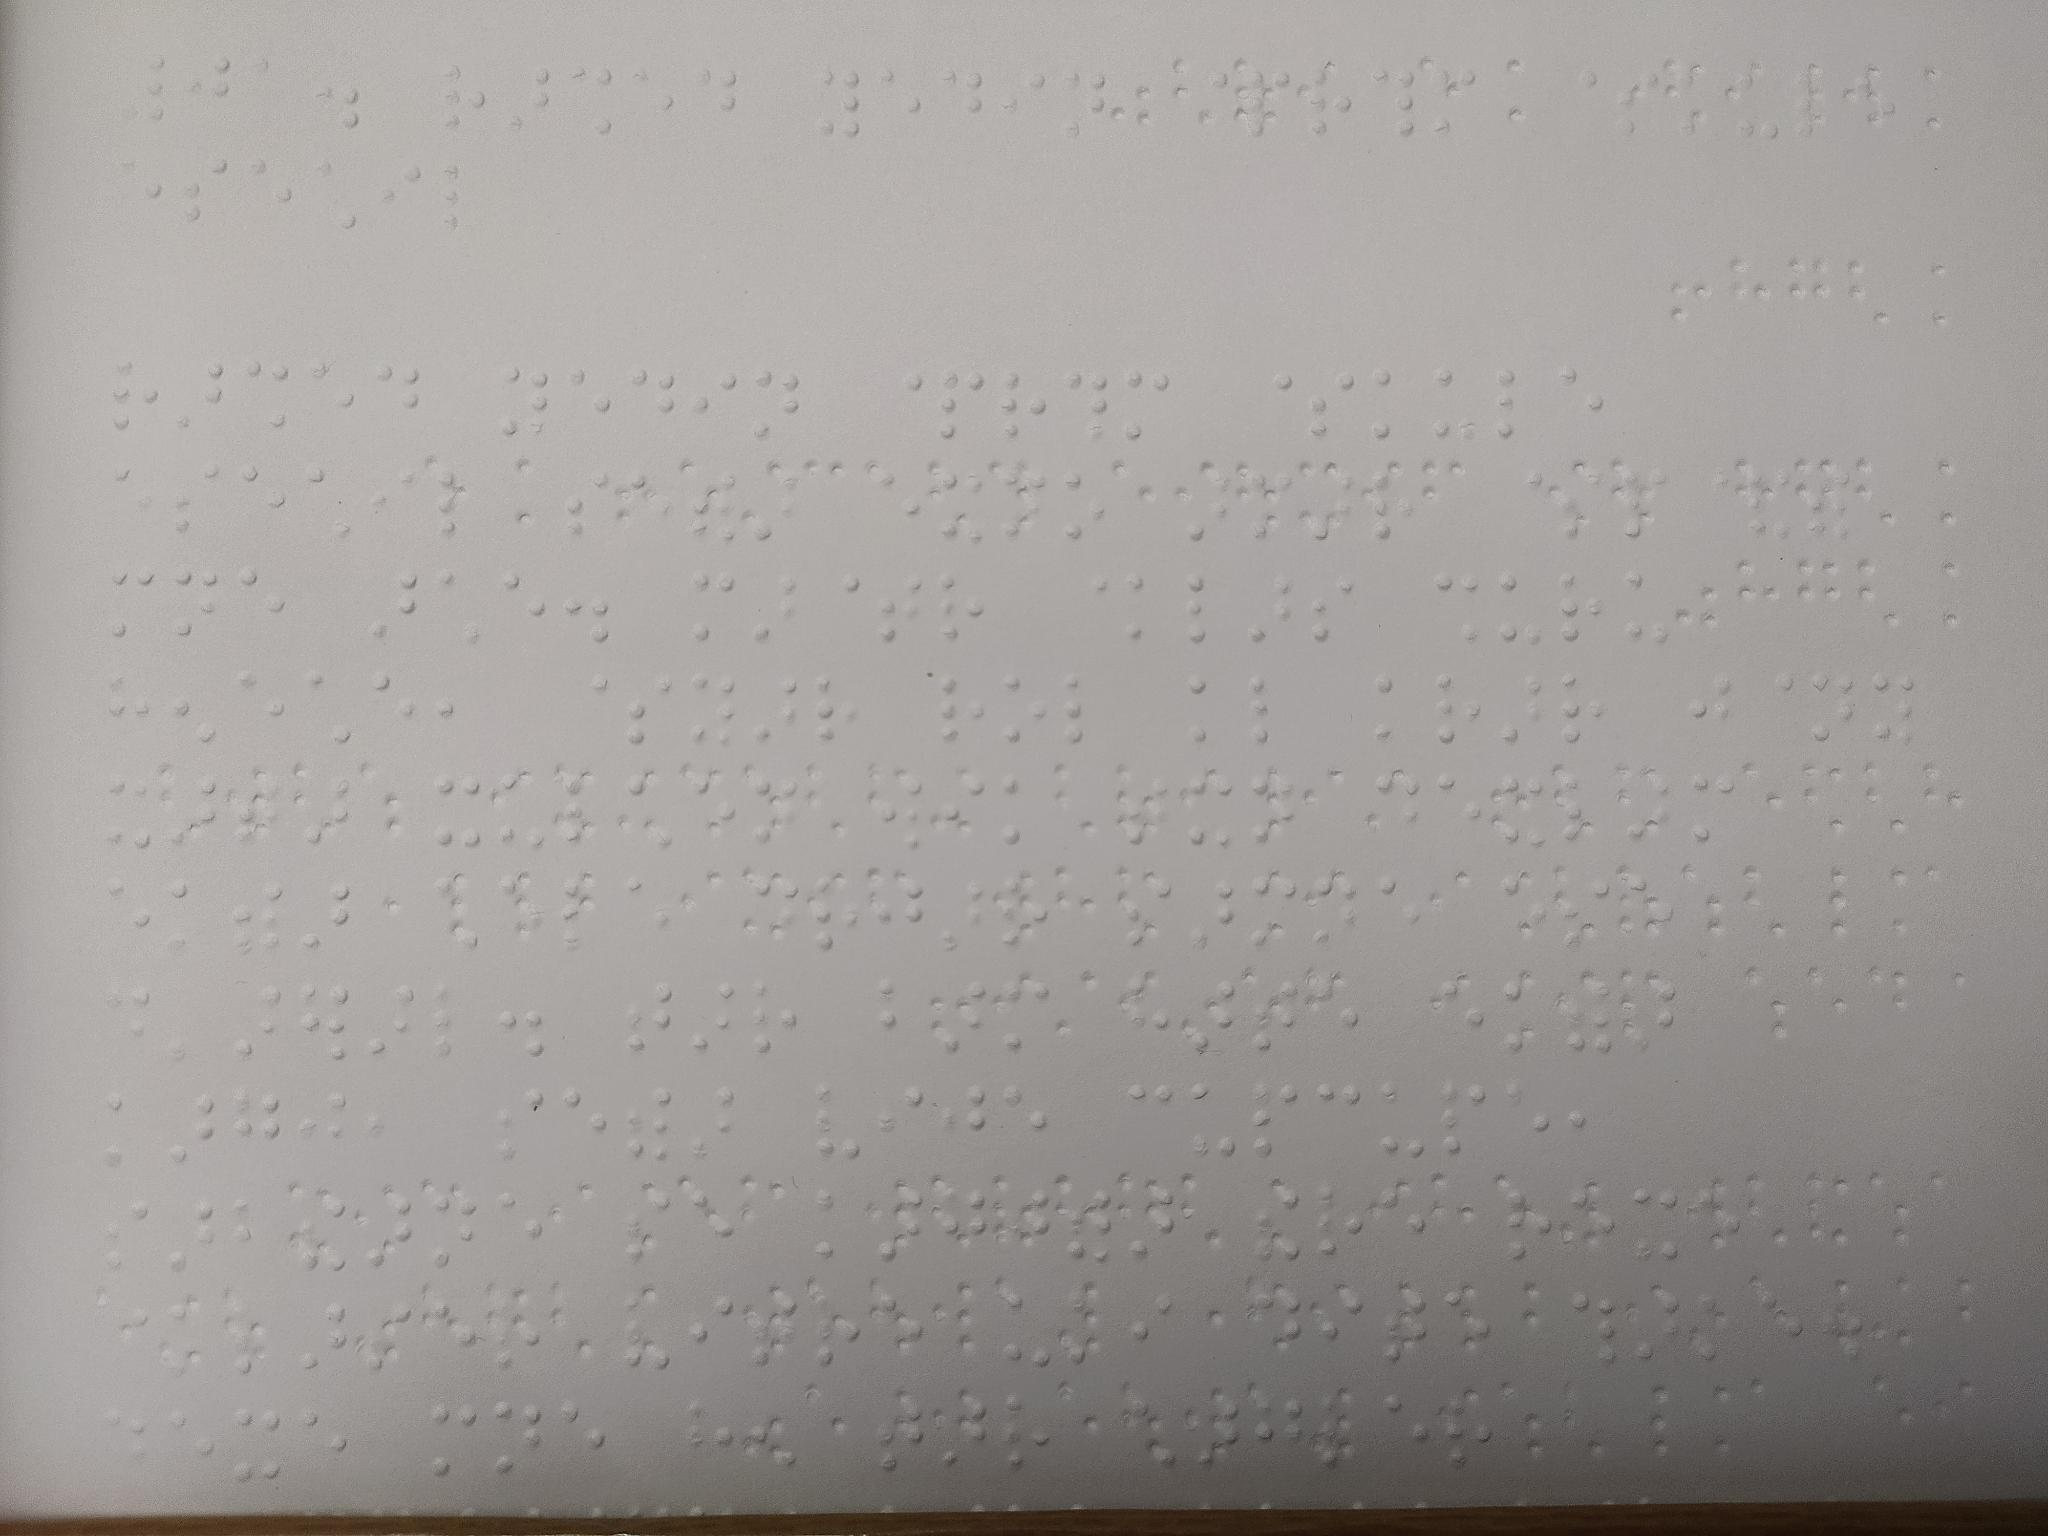a: (1622, 960, 1690, 1068), (361, 965, 419, 1089), (685, 1076, 751, 1180), (158, 1186, 226, 1284), (1123, 1172, 1187, 1276), (156, 1081, 220, 1183), (360, 556, 426, 654), (287, 1292, 357, 1384), (1192, 1382, 1252, 1488), (1616, 756, 1682, 852), (933, 965, 995, 1067), (168, 767, 228, 871), (224, 969, 288, 1066), (746, 557, 806, 659), (870, 1176, 932, 1274), (363, 1175, 419, 1283), (1629, 1281, 1689, 1381), (1181, 962, 1243, 1056), (936, 1392, 998, 1486), (1243, 560, 1303, 656), (500, 50, 558, 146), (748, 462, 808, 554), (298, 871, 360, 959), (934, 866, 992, 958), (748, 666, 810, 752), (690, 970, 742, 1068), (171, 358, 231, 440), (1303, 458, 1357, 548), (300, 768, 356, 854), (1182, 870, 1240, 952), (1496, 671, 1552, 753)
b: (208, 44, 278, 140), (866, 970, 930, 1064), (224, 1188, 284, 1276)
bh: (617, 1281, 681, 1391), (804, 1076, 874, 1174)
ch: (1117, 1069, 1181, 1165), (1310, 1069, 1368, 1167)
chh: (1120, 1382, 1190, 1490), (292, 656, 362, 756), (422, 867, 488, 963), (297, 456, 357, 556), (431, 556, 489, 654), (624, 766, 680, 864)
d: (1241, 1274, 1313, 1368), (94, 975, 162, 1067), (1368, 760, 1432, 854), (98, 1398, 160, 1490), (748, 869, 806, 953), (690, 59, 754, 133), (628, 361, 682, 439), (376, 360, 428, 430), (938, 68, 992, 132)
dh: (290, 1182, 358, 1292), (1240, 1180, 1312, 1274)
e: (992, 1074, 1066, 1174), (291, 1392, 359, 1496), (1373, 1166, 1437, 1274), (1304, 962, 1372, 1062), (306, 350, 372, 452), (554, 1386, 614, 1498), (1501, 1068, 1563, 1176), (1430, 964, 1496, 1064), (156, 1392, 222, 1490), (1549, 352, 1615, 449), (680, 1180, 740, 1282), (230, 452, 292, 550), (1748, 1276, 1814, 1368), (872, 1280, 936, 1374), (627, 455, 685, 557), (230, 558, 292, 652), (422, 1280, 480, 1380), (1561, 1176, 1627, 1262), (552, 1081, 614, 1171), (1685, 1172, 1743, 1268), (230, 652, 288, 746), (110, 452, 164, 552), (615, 868, 675, 958), (1442, 1278, 1500, 1370), (492, 864, 548, 958), (497, 564, 555, 654), (368, 654, 422, 750), (1374, 862, 1430, 954), (1378, 1388, 1438, 1472), (1624, 864, 1682, 950), (490, 1182, 548, 1268), (687, 763, 743, 852), (1492, 866, 1554, 946), (103, 872, 157, 958), (1432, 762, 1486, 846), (878, 59, 928, 149), (562, 363, 622, 437), (879, 460, 925, 554), (629, 64, 681, 138), (366, 1223, 456, 1229)
g: (223, 1076, 295, 1182), (1248, 1380, 1316, 1472), (930, 1176, 990, 1276)
h: (661, 1386, 745, 1488), (1118, 964, 1178, 1060), (100, 661, 160, 755)
i: (1114, 1278, 1182, 1372), (872, 1074, 932, 1174), (682, 1286, 740, 1380), (997, 64, 1055, 148), (690, 360, 748, 444), (363, 461, 419, 547), (934, 767, 990, 852), (1322, 1272, 1372, 1356)
j: (492, 354, 560, 450), (933, 1070, 995, 1174), (683, 665, 745, 763), (866, 862, 930, 956), (1869, 662, 1927, 760), (296, 1078, 352, 1172), (812, 61, 868, 152), (1684, 675, 1744, 759), (815, 59, 867, 151), (1000, 1178, 1052, 1266)
k: (1364, 356, 1426, 456), (94, 1081, 154, 1183), (1684, 1272, 1744, 1370), (161, 1289, 217, 1393), (1498, 966, 1554, 1068), (1056, 1286, 1118, 1376), (1184, 653, 1236, 755), (808, 1175, 862, 1267), (163, 874, 217, 964), (1364, 664, 1418, 750), (1118, 571, 1176, 651), (995, 769, 1045, 853)
kh: (224, 1395, 290, 1499), (104, 762, 166, 872), (1627, 1176, 1687, 1278), (430, 765, 488, 865), (1185, 764, 1243, 862), (1494, 768, 1552, 864), (936, 463, 992, 559)
l: (222, 1290, 286, 1398), (430, 965, 484, 1089), (1312, 1383, 1372, 1489), (1487, 354, 1549, 452), (1057, 652, 1111, 762), (554, 764, 610, 867), (1182, 560, 1236, 656), (427, 454, 481, 548), (1239, 666, 1295, 752), (1552, 762, 1604, 854), (556, 870, 606, 962)
m: (681, 559, 745, 661), (998, 964, 1058, 1068), (1243, 862, 1305, 960), (422, 1393, 484, 1491), (101, 559, 161, 655), (1120, 360, 1180, 454), (1242, 462, 1298, 546), (1687, 763, 1741, 847)
n: (483, 1393, 555, 1487), (752, 354, 814, 452), (166, 559, 228, 655), (424, 1181, 486, 1277), (1308, 869, 1370, 955), (996, 458, 1050, 556), (1805, 662, 1865, 750), (746, 763, 804, 852), (1058, 64, 1112, 154), (1180, 462, 1236, 548), (1248, 767, 1302, 853)
o: (996, 660, 1052, 760), (1057, 462, 1107, 558)
p: (1430, 1074, 1496, 1170), (1614, 456, 1676, 554), (1252, 1062, 1306, 1174), (940, 364, 996, 452)
r: (293, 962, 363, 1078), (1310, 1162, 1374, 1280), (425, 43, 495, 145), (1494, 1176, 1566, 1272), (1436, 1383, 1502, 1483), (808, 1274, 870, 1378), (746, 966, 802, 1080), (486, 1278, 546, 1384), (992, 862, 1056, 960), (138, 46, 204, 138), (928, 568, 994, 660), (1428, 668, 1492, 762), (1000, 1390, 1060, 1490), (107, 358, 169, 448), (934, 663, 990, 759), (1558, 661, 1614, 757), (1559, 564, 1615, 658), (810, 867, 862, 958), (1368, 461, 1420, 547), (812, 666, 864, 752), (998, 368, 1050, 444)
s: (562, 458, 624, 560), (485, 1081, 551, 1175), (358, 1289, 420, 1389), (1548, 458, 1606, 564), (1302, 552, 1360, 658), (92, 1190, 160, 1280), (1557, 866, 1621, 958), (170, 454, 226, 558), (1299, 361, 1363, 451), (620, 1184, 680, 1280), (620, 671, 684, 757), (1114, 868, 1174, 954)
sh: (1428, 559, 1492, 655), (568, 57, 622, 148), (240, 357, 302, 435), (1740, 465, 1796, 549)
t: (617, 968, 685, 1074), (866, 1388, 934, 1488), (620, 1081, 686, 1183), (746, 1282, 806, 1384), (1376, 1272, 1436, 1374), (1247, 965, 1305, 1067), (1060, 1174, 1118, 1276), (224, 876, 292, 960), (1560, 969, 1616, 1070), (232, 766, 286, 864), (1798, 462, 1856, 550), (690, 458, 744, 552), (1118, 771, 1178, 848), (875, 568, 927, 656)
th: (1558, 1278, 1626, 1388), (1364, 60, 1426, 156), (870, 769, 932, 863), (1059, 358, 1115, 460)
u: (1183, 1064, 1249, 1170), (992, 1279, 1056, 1383), (1619, 559, 1679, 665), (1420, 356, 1484, 454), (1492, 555, 1552, 657), (1371, 1072, 1429, 1172), (492, 769, 548, 863)
y: (732, 1376, 808, 1484), (163, 661, 231, 759)
